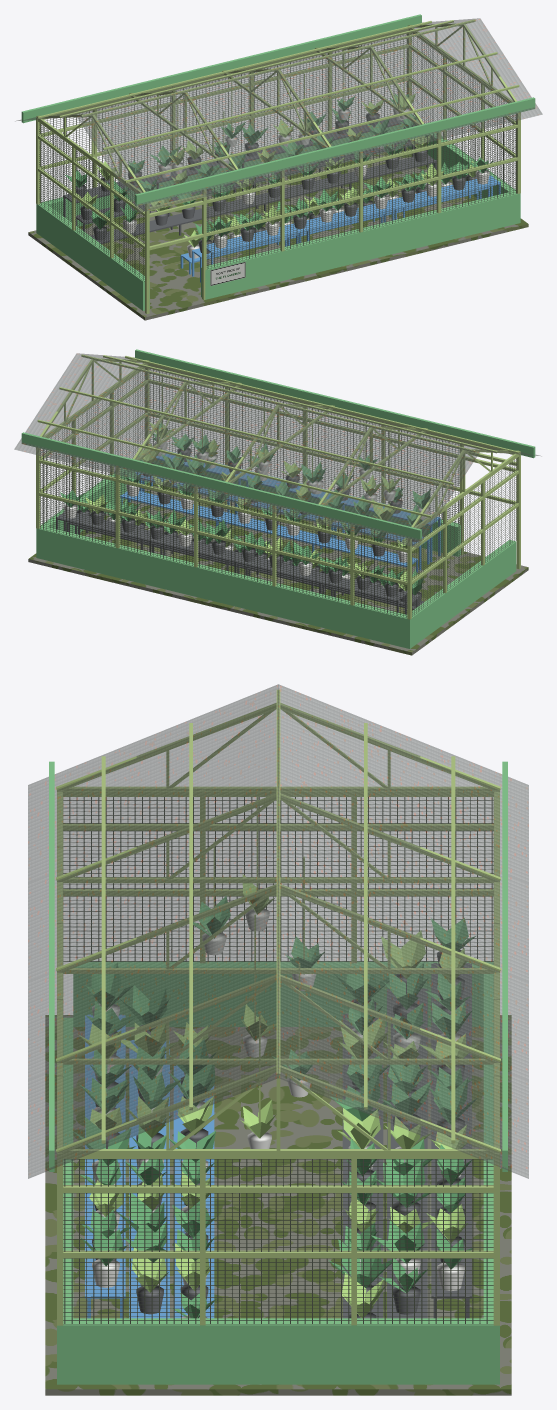
File: greenhouse.glb
The picture shows the model from 3 angles, top to bottom: view 1: azimuth 30°, elevation 25°; view 2: azimuth 150°, elevation 25°; view 3: azimuth 270°, elevation 25°; orthographic projection. The views are drawn at different scales.
Visible parts, largest first — view 1: Atap_Paranet_Transparan, Kawat_Ram_Greenhouse, Rangka_Baja_Truss_Greenhouse, Dinding_Pendek_Dan_Lis_Hijau, Lantai_Beton_Berlumut, Daun_Tanaman_HijauTua, Rak_Tanaman_Hitam, Rak_Tanaman_Biru, Pot_Hitam_Nursery, Daun_Tanaman_HijauCerah, Pot_Putih_Dan_Gantung, Papan_Larangan_Petik_Bunga; view 2: Atap_Paranet_Transparan, Kawat_Ram_Greenhouse, Dinding_Pendek_Dan_Lis_Hijau, Rangka_Baja_Truss_Greenhouse, Lantai_Beton_Berlumut, Daun_Tanaman_HijauTua, Rak_Tanaman_Biru, Rak_Tanaman_Hitam, Pot_Hitam_Nursery, Daun_Tanaman_HijauCerah, Pot_Putih_Dan_Gantung; view 3: Atap_Paranet_Transparan, Rangka_Baja_Truss_Greenhouse, Lantai_Beton_Berlumut, Dinding_Pendek_Dan_Lis_Hijau, Kawat_Ram_Greenhouse, Daun_Tanaman_HijauTua, Daun_Tanaman_HijauCerah, Rak_Tanaman_Hitam, Rak_Tanaman_Biru, Pot_Putih_Dan_Gantung, Pot_Hitam_Nursery.
Part boxes in pixels (x1,y1,x2,y2): Atap_Paranet_Transparan: (15, 18, 542, 212); Kawat_Ram_Greenhouse: (39, 33, 517, 281); Rangka_Baja_Truss_Greenhouse: (36, 19, 520, 313); Dinding_Pendek_Dan_Lis_Hijau: (21, 14, 535, 310); Lantai_Beton_Berlumut: (28, 147, 528, 320); Daun_Tanaman_HijauTua: (65, 93, 493, 241); Rak_Tanaman_Hitam: (63, 115, 436, 243); Rak_Tanaman_Biru: (180, 175, 500, 282); Pot_Hitam_Nursery: (76, 113, 476, 253); Daun_Tanaman_HijauCerah: (76, 93, 477, 247); Pot_Putih_Dan_Gantung: (123, 108, 489, 258); Papan_Larangan_Petik_Bunga: (210, 262, 245, 285); Atap_Paranet_Transparan: (14, 353, 541, 547); Kawat_Ram_Greenhouse: (39, 368, 517, 617); Dinding_Pendek_Dan_Lis_Hijau: (21, 349, 535, 648); Rangka_Baja_Truss_Greenhouse: (36, 354, 520, 619); Lantai_Beton_Berlumut: (28, 482, 528, 655); Daun_Tanaman_HijauTua: (60, 422, 430, 594); Rak_Tanaman_Biru: (120, 450, 440, 572); Rak_Tanaman_Hitam: (56, 511, 424, 614); Pot_Hitam_Nursery: (77, 448, 422, 606); Daun_Tanaman_HijauCerah: (82, 422, 419, 591); Pot_Putih_Dan_Gantung: (63, 436, 429, 587); Atap_Paranet_Transparan: (28, 684, 528, 1178); Rangka_Baja_Truss_Greenhouse: (56, 689, 500, 1325); Lantai_Beton_Berlumut: (45, 1015, 511, 1395); Dinding_Pendek_Dan_Lis_Hijau: (49, 761, 507, 1384); Kawat_Ram_Greenhouse: (63, 797, 493, 1324); Daun_Tanaman_HijauTua: (74, 896, 476, 1318); Daun_Tanaman_HijauCerah: (78, 874, 480, 1318); Rak_Tanaman_Hitam: (342, 963, 471, 1318); Rak_Tanaman_Biru: (85, 1014, 214, 1318); Pot_Putih_Dan_Gantung: (92, 908, 464, 1318); Pot_Hitam_Nursery: (92, 950, 464, 1318).
Bounding box in the file's own units: 8 × 3.1 × 4.3.
Materials: 12 (4 with a texture image).
